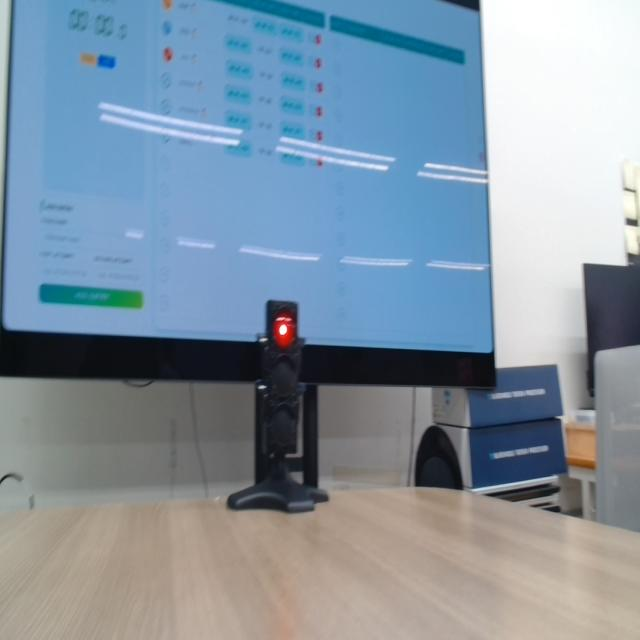red_light: (273, 315, 296, 349)
